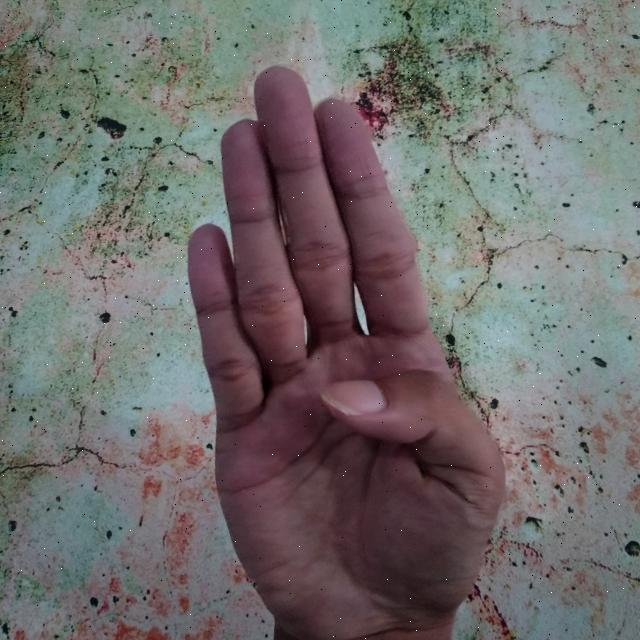B: (186, 62, 504, 640)
